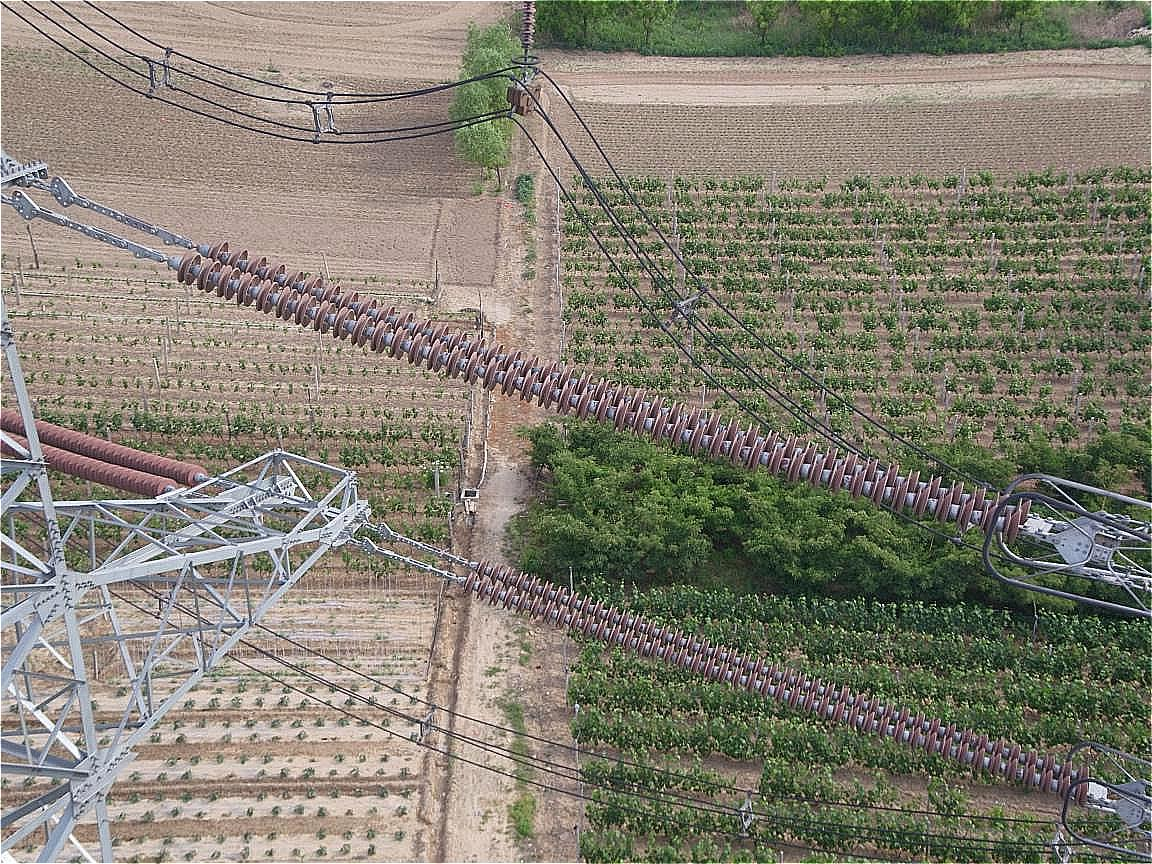insultor2: (176, 239, 1032, 544), (465, 559, 1093, 808)
